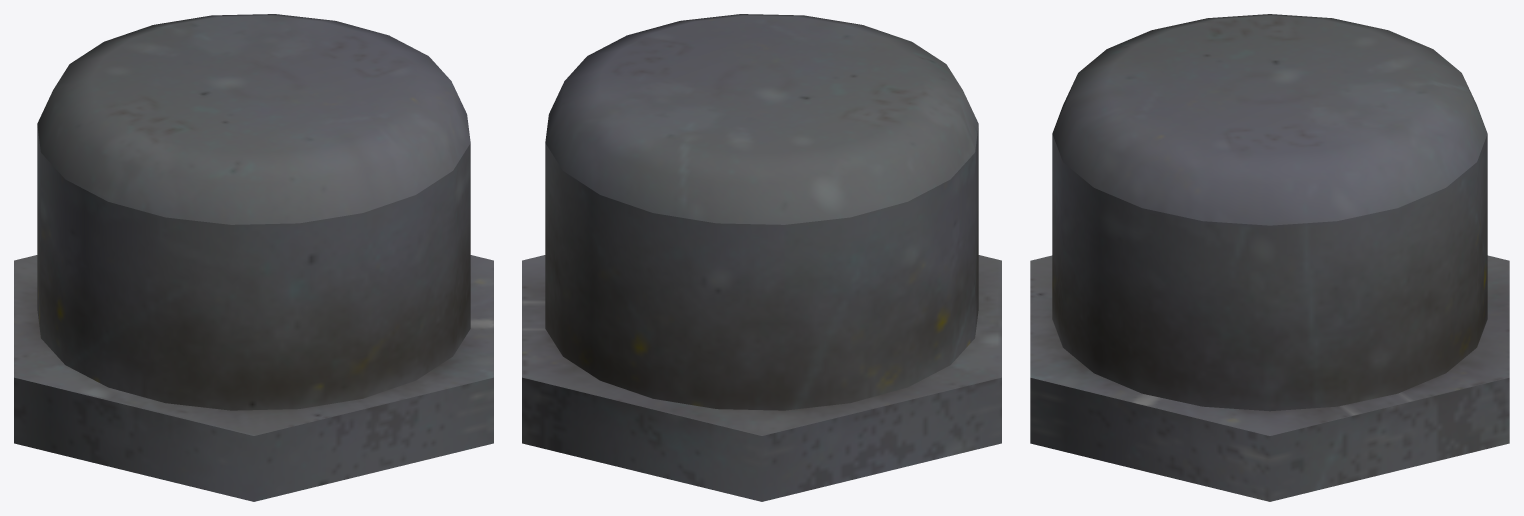
File: PlasticPipe_07a_snaps019.fbx
3 renders of one model, left to right at view 1: azimuth 30°, elevation 25°; view 2: azimuth 150°, elevation 25°; view 3: azimuth 270°, elevation 25°, orthographic.
Visible parts, largest first — view 1: PlasticPipe_07a_snaps019_LOD0; view 2: PlasticPipe_07a_snaps019_LOD0; view 3: PlasticPipe_07a_snaps019_LOD0.
Part boxes in pixels (bbox=[...]): PlasticPipe_07a_snaps019_LOD0: bbox=[14, 14, 493, 501]; PlasticPipe_07a_snaps019_LOD0: bbox=[522, 14, 1001, 501]; PlasticPipe_07a_snaps019_LOD0: bbox=[1030, 14, 1509, 501].
Size of what is drawn, in the model's own units: 21.73 by 13 by 18.82.
